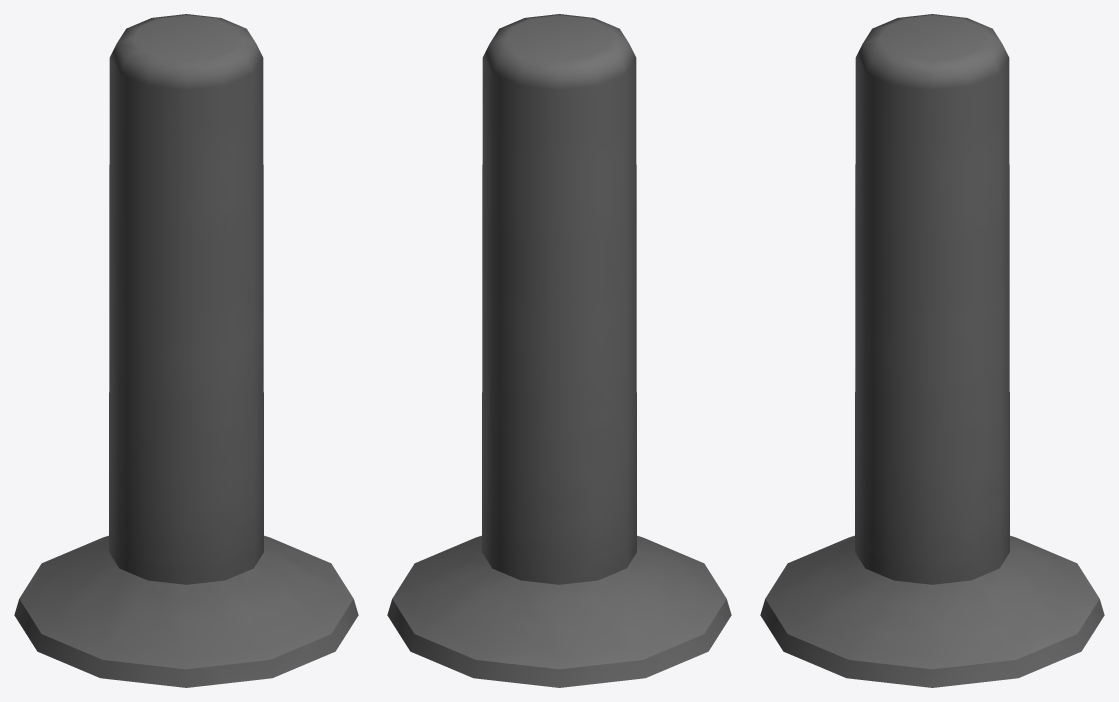
File: Pfb_Fence__4.fbx
3 renders of one model, left to right at view 1: azimuth 30°, elevation 25°; view 2: azimuth 150°, elevation 25°; view 3: azimuth 270°, elevation 25°, orthographic.
Visible parts, largest first — view 1: MAT_Fence02 2; view 2: MAT_Fence02 2; view 3: MAT_Fence02 2.
Part boxes in pixels (box(x1,y1,x2,y2)): MAT_Fence02 2: box(14, 14, 358, 687); MAT_Fence02 2: box(387, 14, 731, 687); MAT_Fence02 2: box(760, 14, 1104, 687).
Bounding box in the file's own units: 0.4028 × 0.7448 × 0.4028.
1 material, 1 textured.
